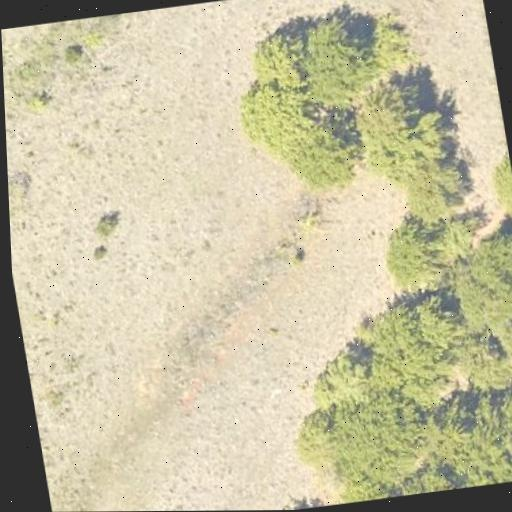tree-top: (225, 22, 324, 161), (355, 72, 466, 182), (443, 229, 512, 394), (357, 291, 462, 393), (292, 5, 387, 106), (426, 383, 512, 490), (341, 386, 433, 484), (275, 120, 369, 200), (393, 158, 482, 226), (304, 343, 375, 415), (376, 217, 447, 288), (451, 321, 512, 400), (289, 402, 355, 469), (434, 215, 488, 259), (491, 148, 512, 222)
